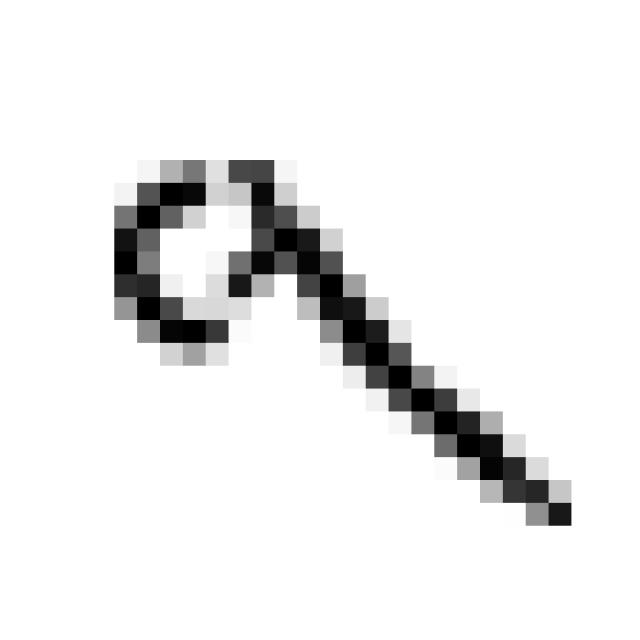9 -nine-: (94, 128, 590, 553)
